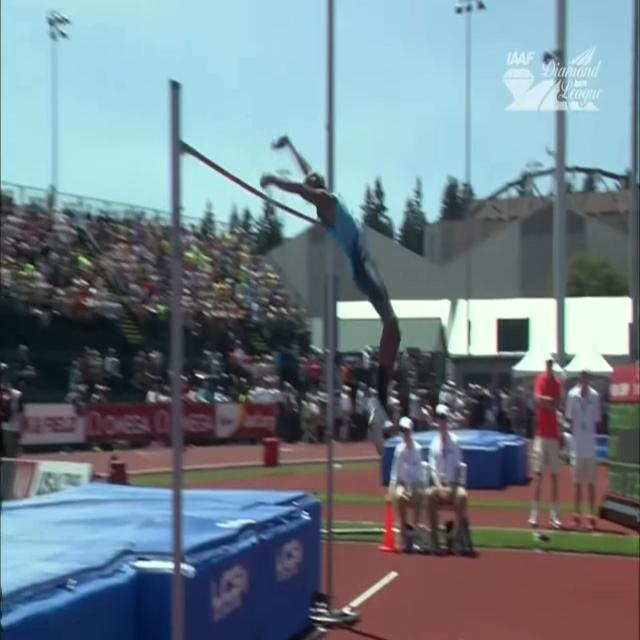jump: (261, 133, 404, 458)
